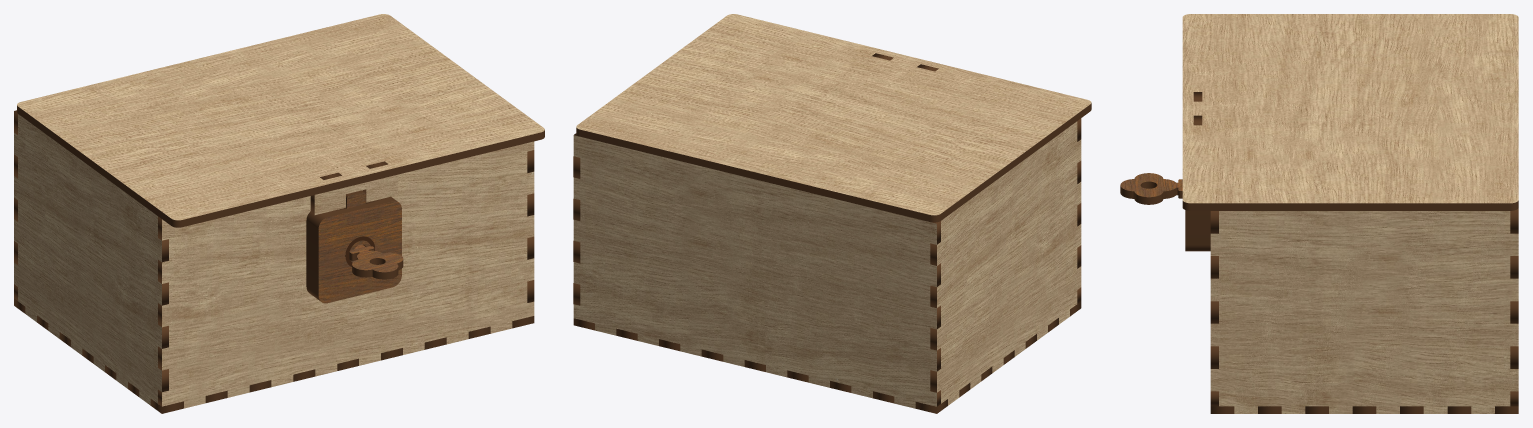
Rendered from lock-box.glb.
3 views of the same model, side by side, from view 1: azimuth 30°, elevation 25°; view 2: azimuth 150°, elevation 25°; view 3: azimuth 270°, elevation 25° (orthographic). The views are drawn at different scales.
Visible parts, largest first — view 1: body11, body1, body3, body7, body0, body13, body14, body4, body6; view 2: body2, body11, body3, body0, body4, body1; view 3: body11, body4, body14, body0, body2, body1, body6, body7, body5.
Part boxes in pixels (x1,y1,x2,y2): body11: [17, 14, 544, 227]; body1: [158, 141, 534, 408]; body3: [14, 114, 168, 405]; body7: [314, 198, 401, 303]; body0: [14, 298, 534, 413]; body13: [310, 161, 397, 215]; body14: [349, 244, 403, 279]; body4: [527, 150, 534, 302]; body6: [310, 196, 393, 297]; body2: [573, 133, 940, 408]; body11: [576, 14, 1091, 222]; body3: [930, 121, 1081, 405]; body0: [573, 301, 1081, 413]; body4: [573, 156, 580, 305]; body1: [1077, 118, 1081, 303]; body11: [1182, 14, 1518, 210]; body4: [1210, 211, 1518, 413]; body14: [1120, 173, 1182, 204]; body0: [1210, 406, 1518, 413]; body2: [1510, 208, 1518, 406]; body1: [1210, 211, 1218, 406]; body6: [1193, 211, 1202, 251]; body7: [1185, 210, 1193, 251]; body5: [1202, 211, 1210, 251].
Size of the model in its own units: 0.16 by 0.083 by 0.1422.
Materials: 4 (2 with a texture image).
